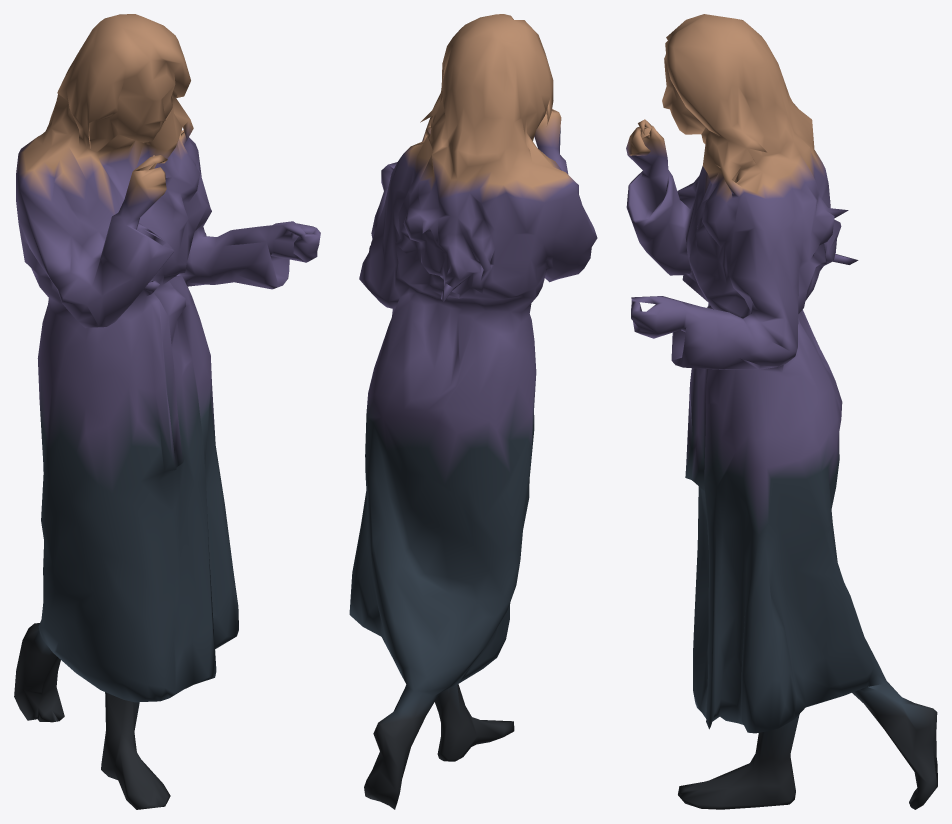
Rendered from people_typ11_stand.glb.
The picture shows the model from 3 angles, left to right: view 1: azimuth 30°, elevation 25°; view 2: azimuth 150°, elevation 25°; view 3: azimuth 270°, elevation 25°; orthographic projection. The views are drawn at different scales.
Parts seen in each view (by area): view 1: people_typ11_stand-mesh; view 2: people_typ11_stand-mesh; view 3: people_typ11_stand-mesh.
Part boxes in pixels (<box>): people_typ11_stand-mesh: <box>14,14,320,809</box>; people_typ11_stand-mesh: <box>349,14,597,809</box>; people_typ11_stand-mesh: <box>626,14,937,809</box>.
Bounding box in the file's own units: 0.6053 × 1.78 × 0.6501.
